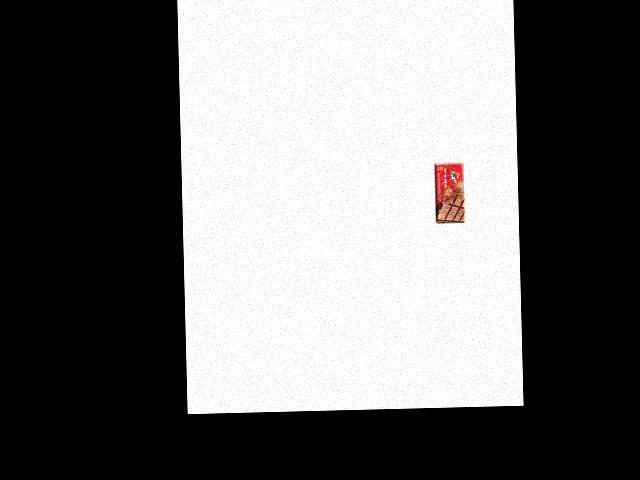chocolate: (433, 161, 466, 225)
